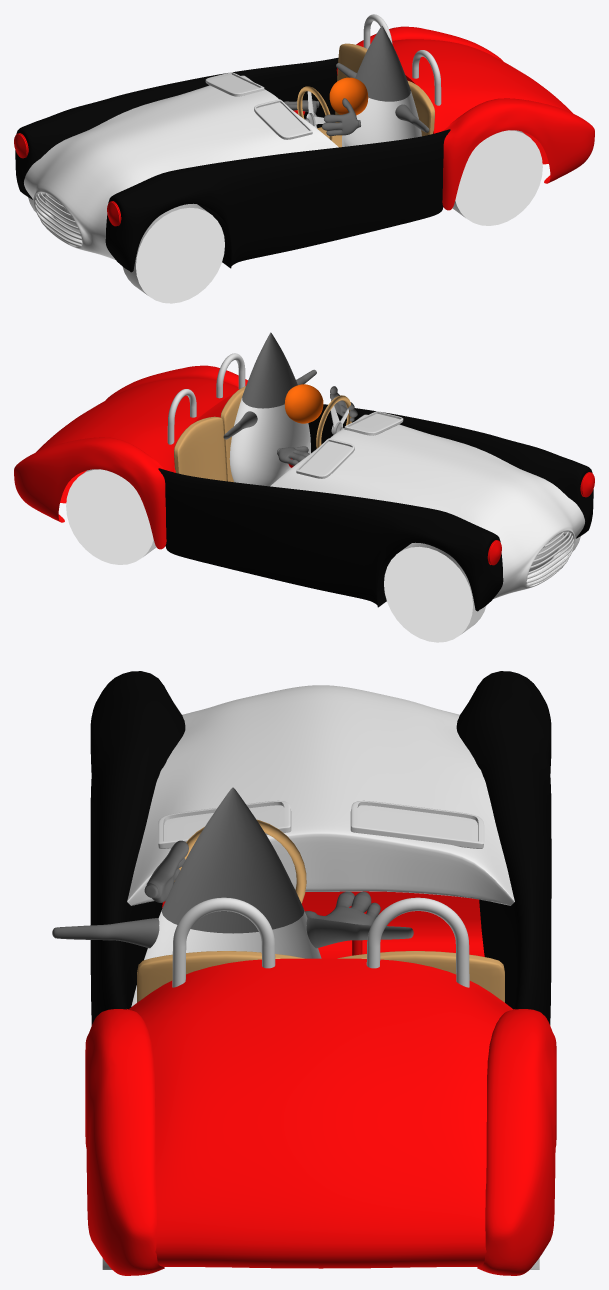
The model's file is DukeCar.glb.
The picture shows the model from 3 angles, top to bottom: view 1: azimuth 30°, elevation 25°; view 2: azimuth 150°, elevation 25°; view 3: azimuth 270°, elevation 25°; orthographic projection. The views are drawn at different scales.
Parts seen in each view (by area): view 1: FRONT_WING, BONNET, REAR_WING, BOOT, FRONT_LEFT_WHEEL, REAR_LEFT_WHEEL, DUKE_HI_BODY, DUKE_LOW_BODY, WINDSCREENS, SEATS, DUKE_NOSE, ROLL_BARS (+5 smaller); view 2: FRONT_WING, BONNET, REAR_WING, BOOT, FRONT_RIGHT_WHEEL, REAR_RIGHT_WHEEL, DUKE_LOW_BODY, SEATS, DUKE_HI_BODY, WINDSCREENS, DUKE_NOSE, ROLL_BARS (+4 smaller); view 3: BOOT, BONNET, FRONT_WING, REAR_WING, DUKE_HI_BODY, WINDSCREENS, ROLL_BARS, SEATS, DUKE_LOW_BODY, DUKE_L_ARM, DUKE_R_ARM, DUKE_R_HAND (+2 smaller).
Boxes of the visible parts, left/top/right/bottom form: FRONT_WING: left=15, top=57, right=450, bottom=272; BONNET: left=24, top=75, right=338, bottom=259; REAR_WING: left=356, top=26, right=594, bottom=210; BOOT: left=336, top=39, right=572, bottom=164; FRONT_LEFT_WHEEL: left=123, top=203, right=224, bottom=303; REAR_LEFT_WHEEL: left=452, top=130, right=542, bottom=225; DUKE_HI_BODY: left=355, top=26, right=410, bottom=101; DUKE_LOW_BODY: left=342, top=91, right=421, bottom=146; WINDSCREENS: left=205, top=72, right=312, bottom=139; SEATS: left=317, top=43, right=434, bottom=147; DUKE_NOSE: left=329, top=77, right=368, bottom=115; ROLL_BARS: left=363, top=14, right=441, bottom=105; FRONT_WING: left=158, top=404, right=593, bottom=611; BONNET: left=270, top=414, right=584, bottom=598; REAR_WING: left=14, top=365, right=247, bottom=549; BOOT: left=36, top=378, right=239, bottom=503; FRONT_RIGHT_WHEEL: left=384, top=542, right=485, bottom=642; REAR_RIGHT_WHEEL: left=66, top=469, right=156, bottom=564; DUKE_LOW_BODY: left=229, top=398, right=310, bottom=486; SEATS: left=174, top=386, right=245, bottom=482; DUKE_HI_BODY: left=242, top=332, right=297, bottom=408; WINDSCREENS: left=296, top=411, right=403, bottom=478; DUKE_NOSE: left=284, top=384, right=323, bottom=423; ROLL_BARS: left=167, top=353, right=245, bottom=444; BOOT: left=128, top=891, right=513, bottom=1268; BONNET: left=127, top=685, right=514, bottom=905; FRONT_WING: left=90, top=671, right=551, bottom=1025; REAR_WING: left=85, top=1009, right=556, bottom=1275; DUKE_HI_BODY: left=161, top=787, right=304, bottom=933; WINDSCREENS: left=158, top=800, right=484, bottom=848; ROLL_BARS: left=172, top=897, right=469, bottom=987; SEATS: left=137, top=951, right=504, bottom=1002; DUKE_LOW_BODY: left=131, top=910, right=321, bottom=1006; DUKE_L_ARM: left=52, top=918, right=159, bottom=948; DUKE_R_ARM: left=306, top=918, right=413, bottom=948; DUKE_R_HAND: left=305, top=891, right=380, bottom=925.
Size of the model in its own units: 7.86 by 2.94 by 3.43.
